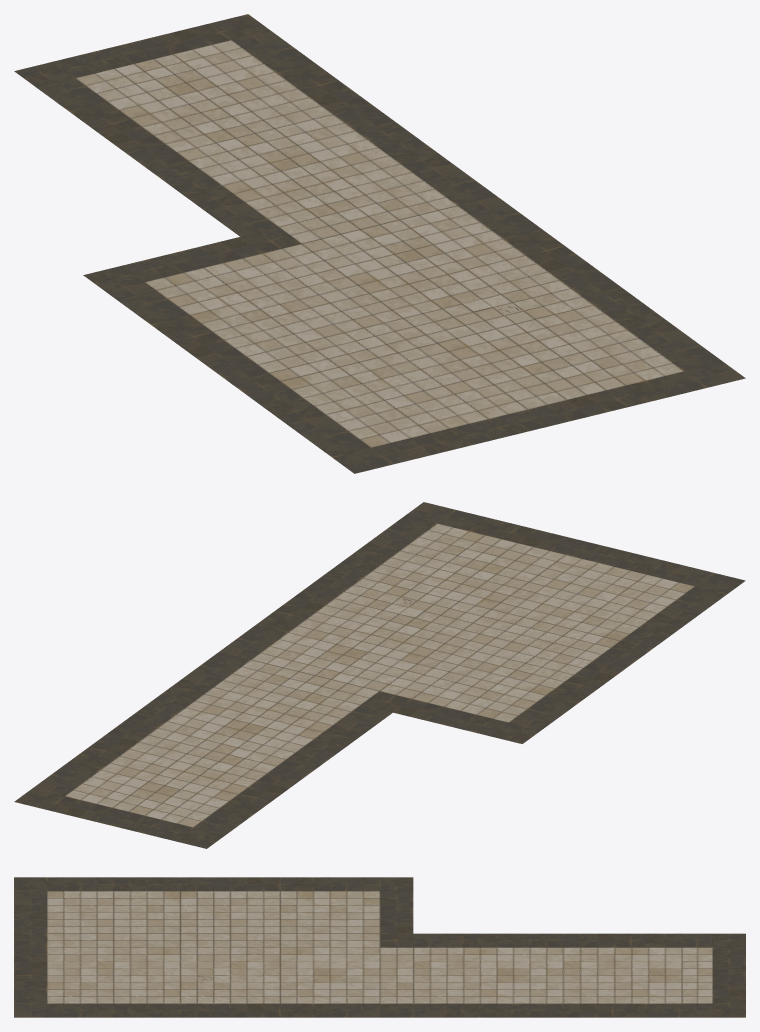
The model's file is Mesh_Floor_01.fbx.
3 renders of one model, top to bottom at view 1: azimuth 30°, elevation 25°; view 2: azimuth 150°, elevation 25°; view 3: azimuth 270°, elevation 25°, orthographic. The views are drawn at different scales.
Parts seen in each view (by area): view 1: Floor_01; view 2: Floor_01; view 3: Floor_01.
Boxes of the visible parts, left/top/right/bottom form: Floor_01: left=14, top=14, right=745, bottom=473; Floor_01: left=14, top=502, right=745, bottom=848; Floor_01: left=14, top=877, right=745, bottom=1017.
Size of the model in its own units: 999 by 4.02 by 2200.
1 material, 1 textured.
